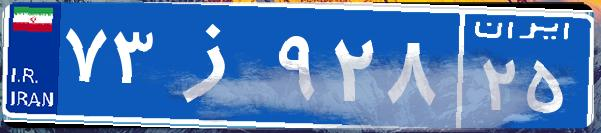2: (330, 28, 385, 110), (475, 38, 525, 113)
3: (110, 28, 158, 105)
5: (525, 38, 570, 115)
7: (57, 26, 110, 107)
8: (385, 28, 445, 110)
9: (273, 28, 330, 110)
ز: (158, 15, 273, 115)
